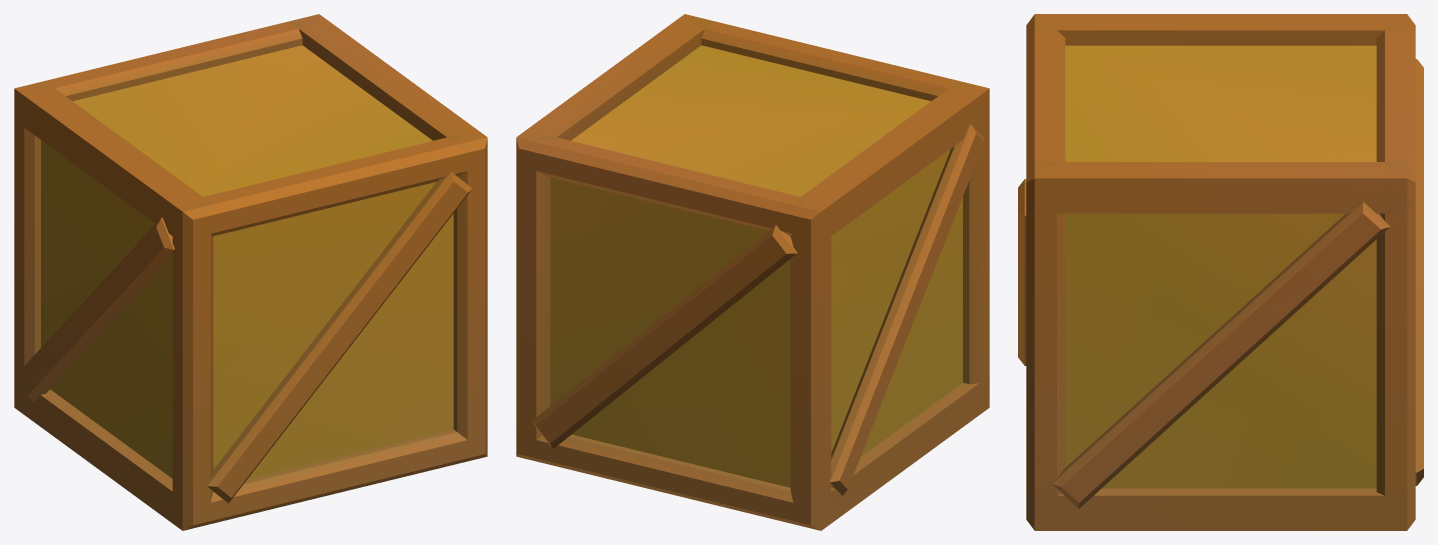
Rendered from Prop_Crate.glb.
3 renders of one model, left to right at view 1: azimuth 30°, elevation 25°; view 2: azimuth 150°, elevation 25°; view 3: azimuth 270°, elevation 25°, orthographic. The views are drawn at different scales.
Parts seen in each view (by area): view 1: Prop_Crate; view 2: Prop_Crate; view 3: Prop_Crate.
Part boxes in pixels (bbox=[...]): Prop_Crate: bbox=[14, 14, 487, 530]; Prop_Crate: bbox=[516, 14, 989, 530]; Prop_Crate: bbox=[1018, 14, 1423, 530].
Bounding box in the file's own units: 0.73 × 0.7 × 0.73.
